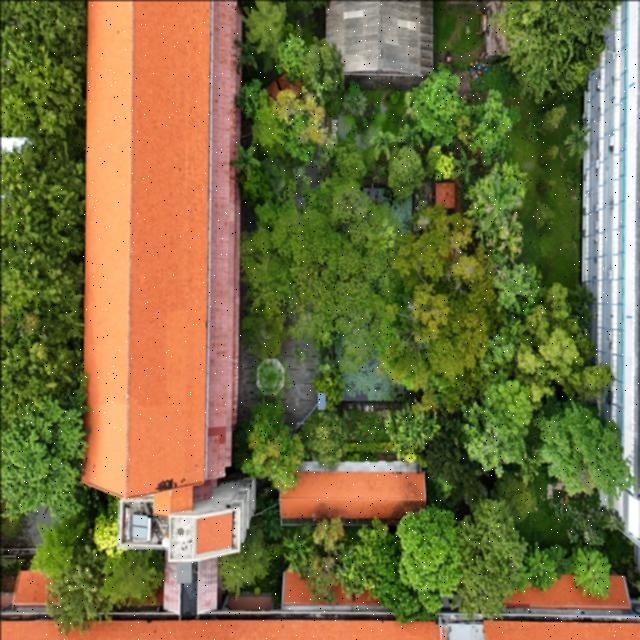Tree: (241, 404, 301, 492), (410, 62, 462, 144), (569, 544, 613, 602), (309, 414, 349, 475), (231, 142, 260, 182)
